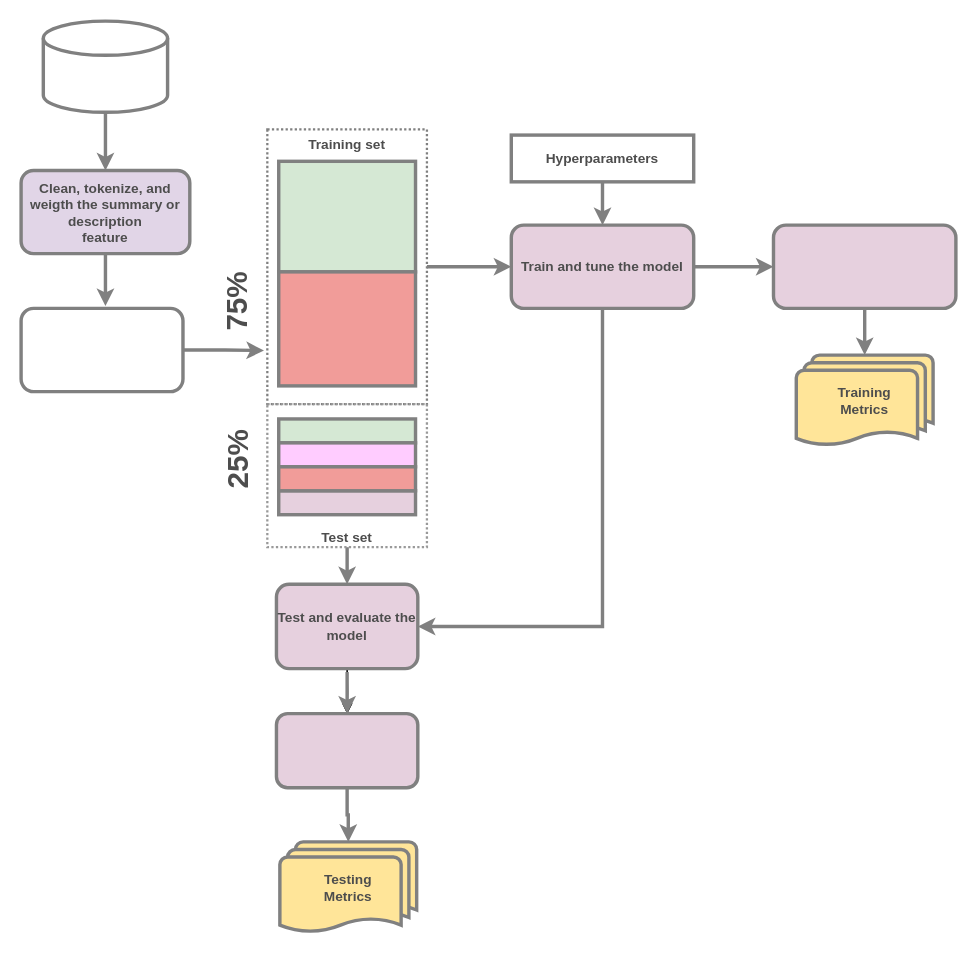
The diagram is 977 pixels wide and 954 high, and some of its shapes have lost their labels. Each missing label, with the centre of its shape:
"Calculate and evaluate training metrics" belongs at point 864,266.
"Calculate testing metrics" belongs at point 346,750.
"Mozilla Dataset" belongs at point 105,66.
"Split the dataset" belongs at point 101,349.
